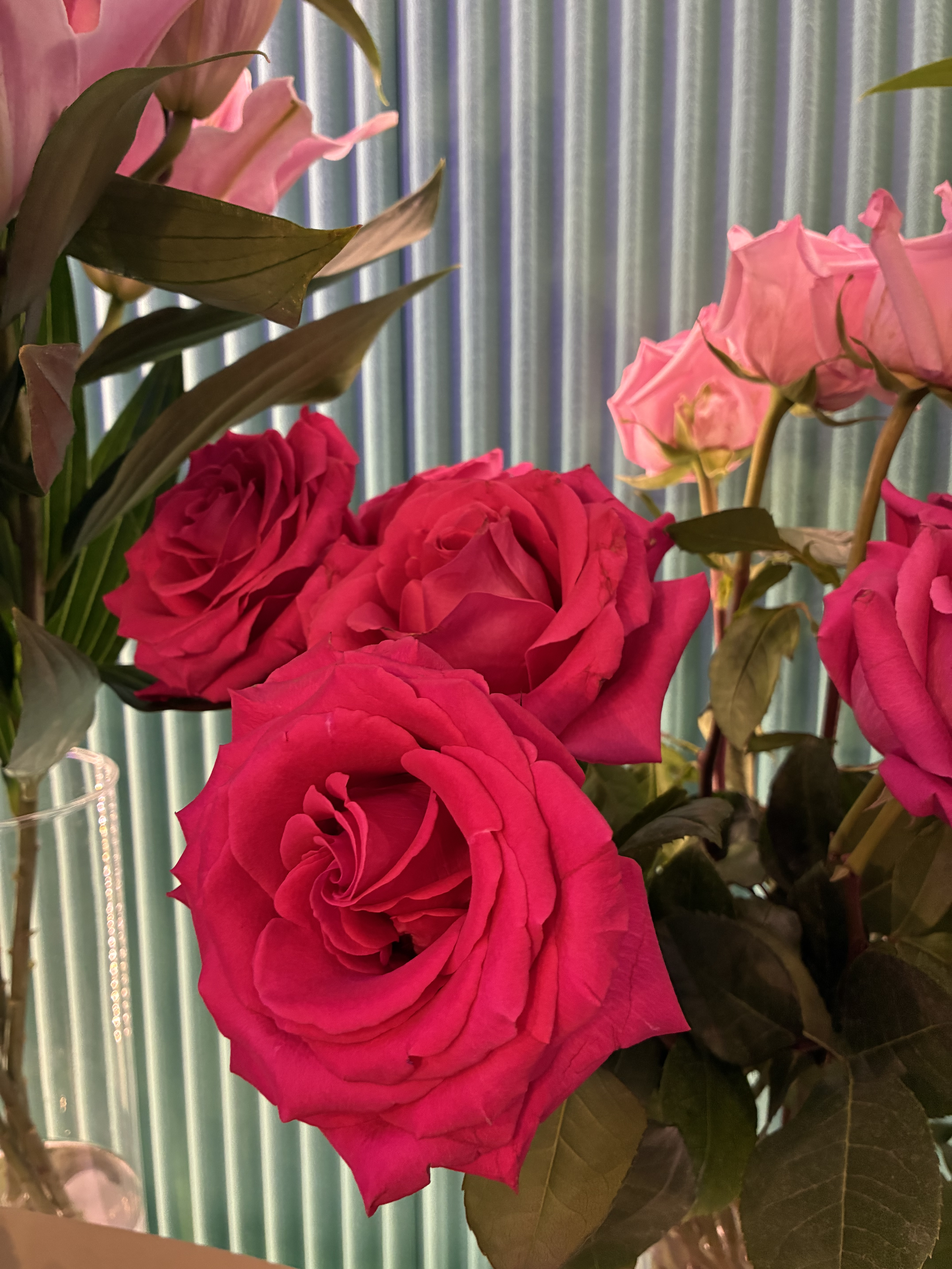rose: (159, 695, 704, 1221), (305, 451, 692, 772), (117, 389, 361, 710), (704, 206, 863, 442), (833, 162, 952, 454), (601, 302, 772, 489)
